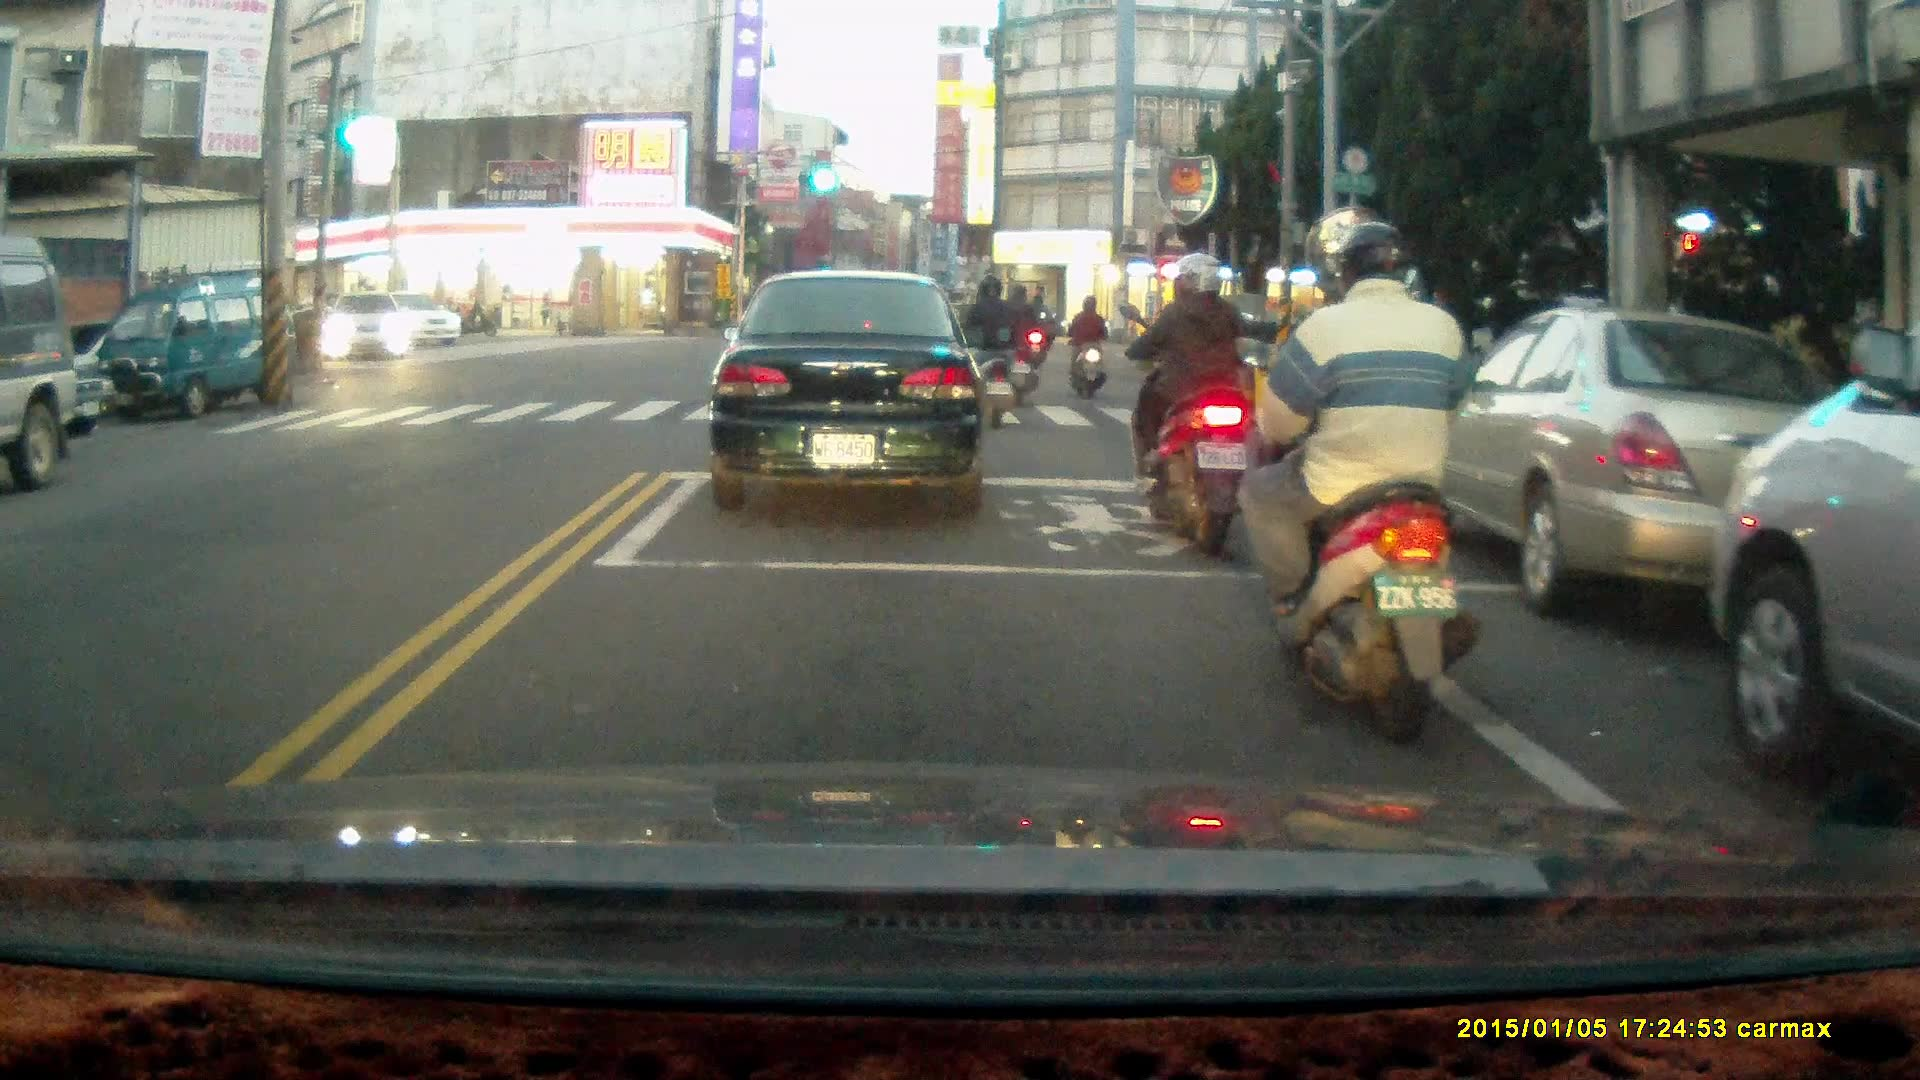rider: (1237, 218, 1483, 744), (1116, 249, 1261, 557), (960, 274, 1014, 427), (991, 278, 1041, 407), (1068, 291, 1110, 400), (1023, 290, 1055, 365)
vehicle: (1418, 306, 1856, 623), (1708, 344, 1920, 772), (704, 267, 988, 518), (86, 263, 271, 419), (1, 234, 90, 488), (320, 292, 414, 365), (378, 291, 466, 346)
